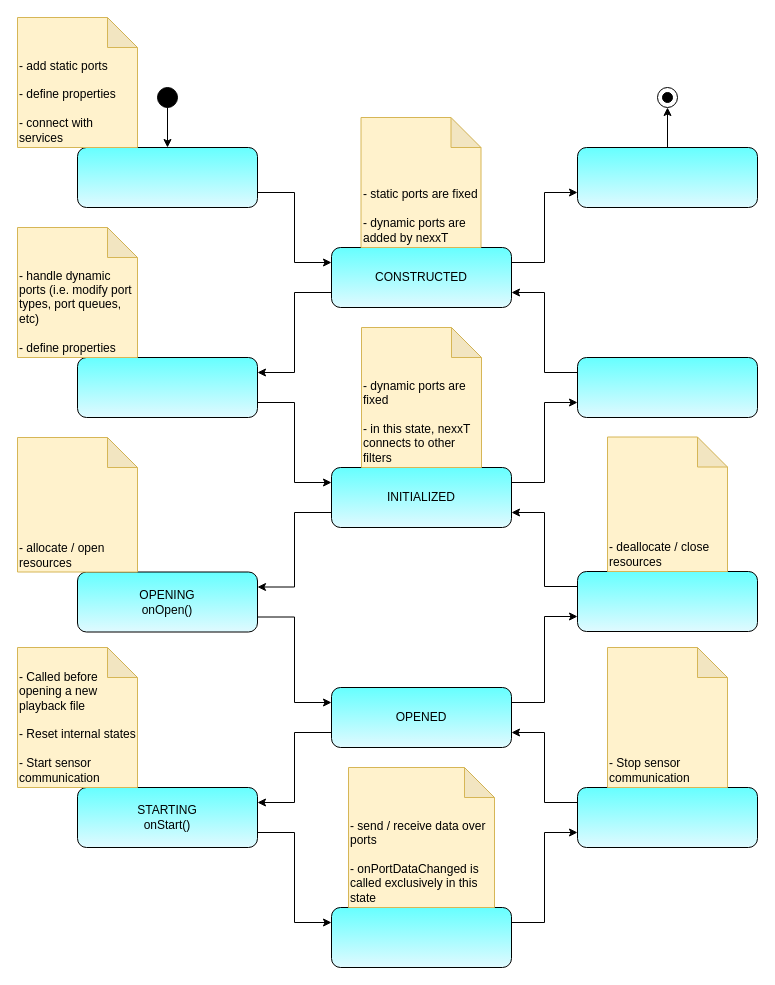
Image size: 775x985. Some labels were removed from this diagram. Each missing label, with the centre of its shape:
ACTIVE onPortDataChanged(): point 421,937
CLOSING onClose(): point 667,601
CONSTRUCTING __init__(): point 167,177
DEINITIALIZING onDeinit(): point 667,387
DESTRUCTING __del__(): point 667,177
INITIALIZING onInit(): point 167,387
STOPPING onStop(): point 667,817
